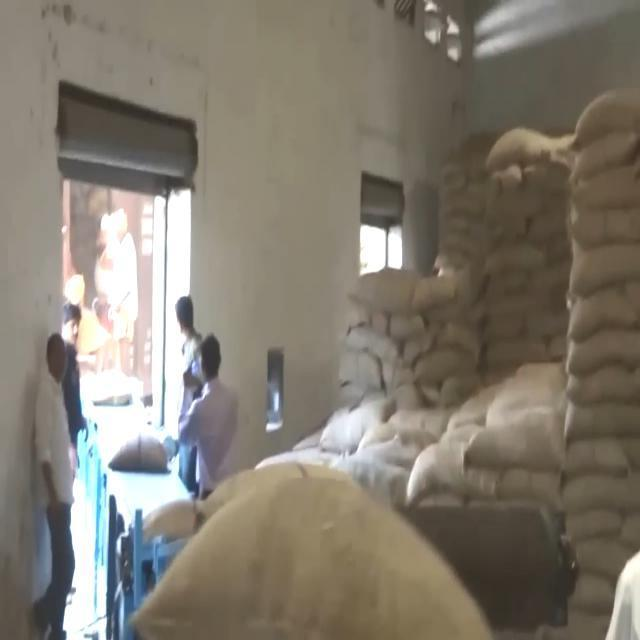gunny_bag: (130, 473, 492, 640), (466, 409, 568, 469), (568, 85, 640, 156), (124, 493, 208, 549), (573, 121, 640, 187), (565, 244, 640, 302), (563, 285, 640, 341), (563, 469, 640, 516), (482, 128, 564, 172), (565, 162, 640, 210), (565, 365, 640, 413), (563, 400, 640, 445), (563, 432, 640, 476), (346, 265, 418, 312), (571, 202, 640, 250), (567, 332, 640, 376), (102, 428, 168, 474), (575, 532, 640, 570)
